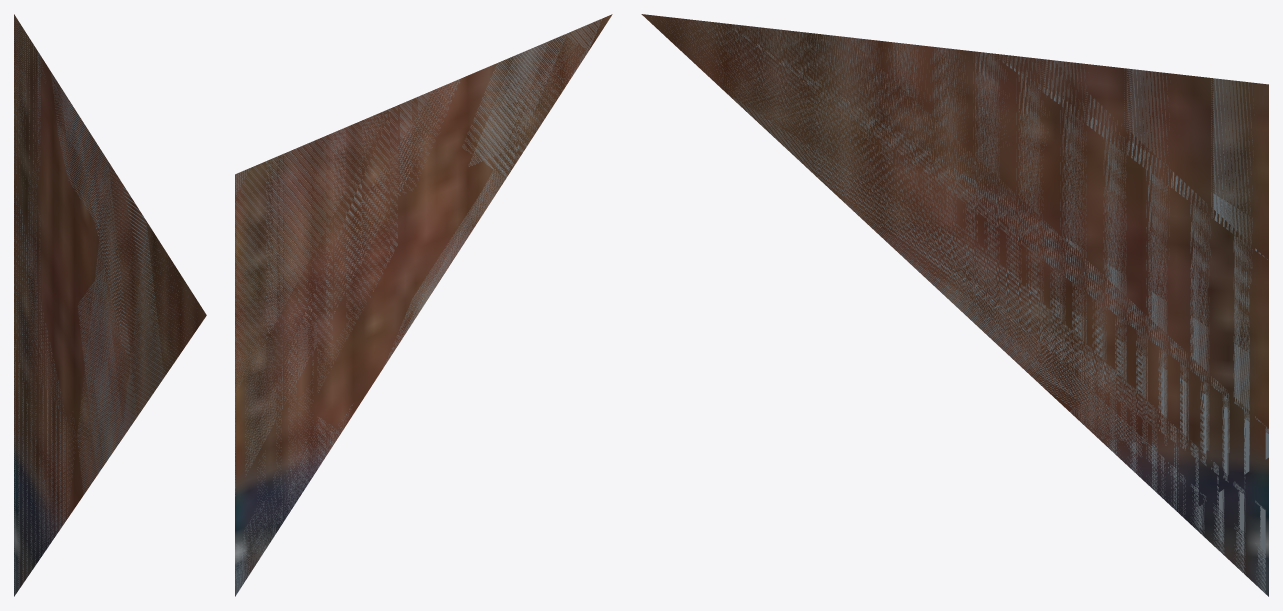
File: 西庸城堡549.dae
3 views of the same model, side by side, from view 1: azimuth 30°, elevation 25°; view 2: azimuth 150°, elevation 25°; view 3: azimuth 270°, elevation 25° (orthographic). The views are drawn at different scales.
Visible parts, largest first — view 1: SketchUp; view 2: SketchUp; view 3: SketchUp.
Part boxes in pixels (x1,y1,x2,y2): SketchUp: (14, 14, 206, 596); SketchUp: (235, 14, 612, 596); SketchUp: (641, 14, 1268, 596).
Bounding box in the file's own units: 14.8 × 55.71 × 50.2.
